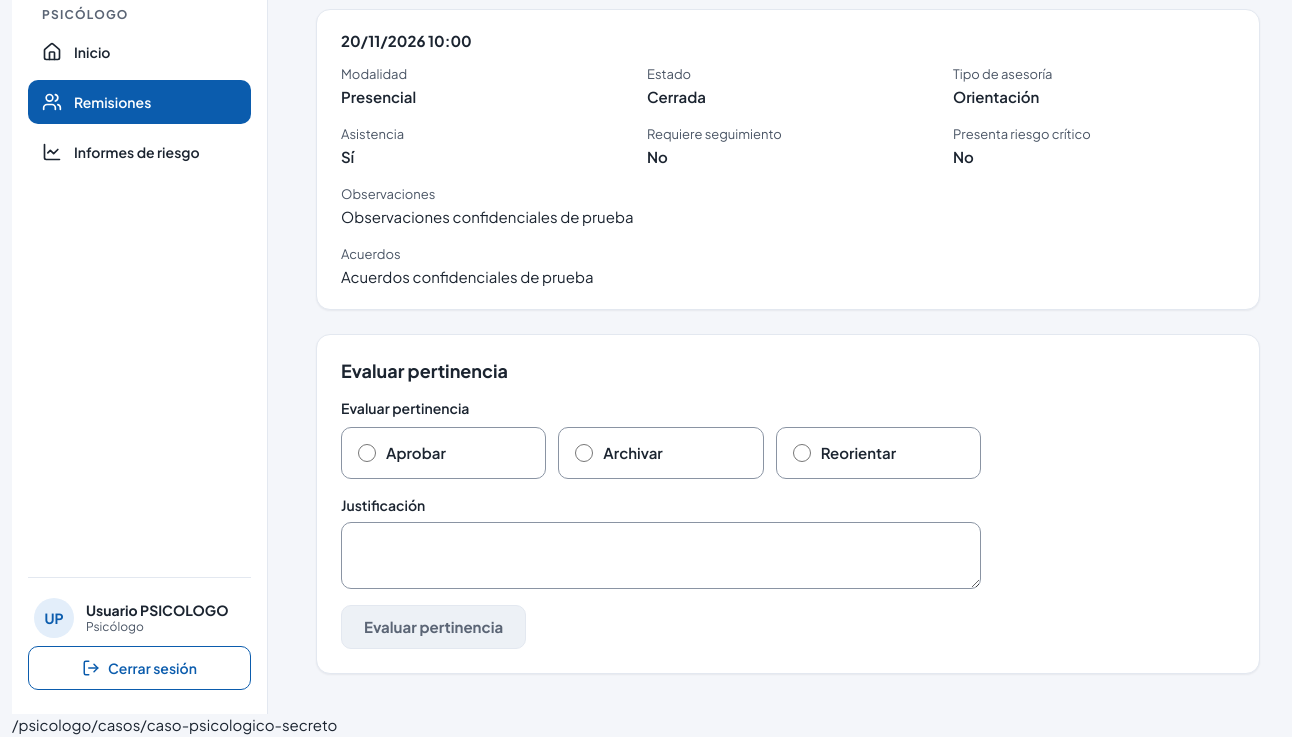
Test: Evaluación de pertinencia (CUD07) › no elige una decisión por defecto y valida la justificación antes de enviar
The width and height of the screenshot is (1292, 737).
(page scrolled)
expect the button "Evaluar pertinencia" is disabled: met, box [341, 605, 526, 649]
Click the radio button labelled "Archivar".
click(584, 453)  # box [575, 444, 593, 462]
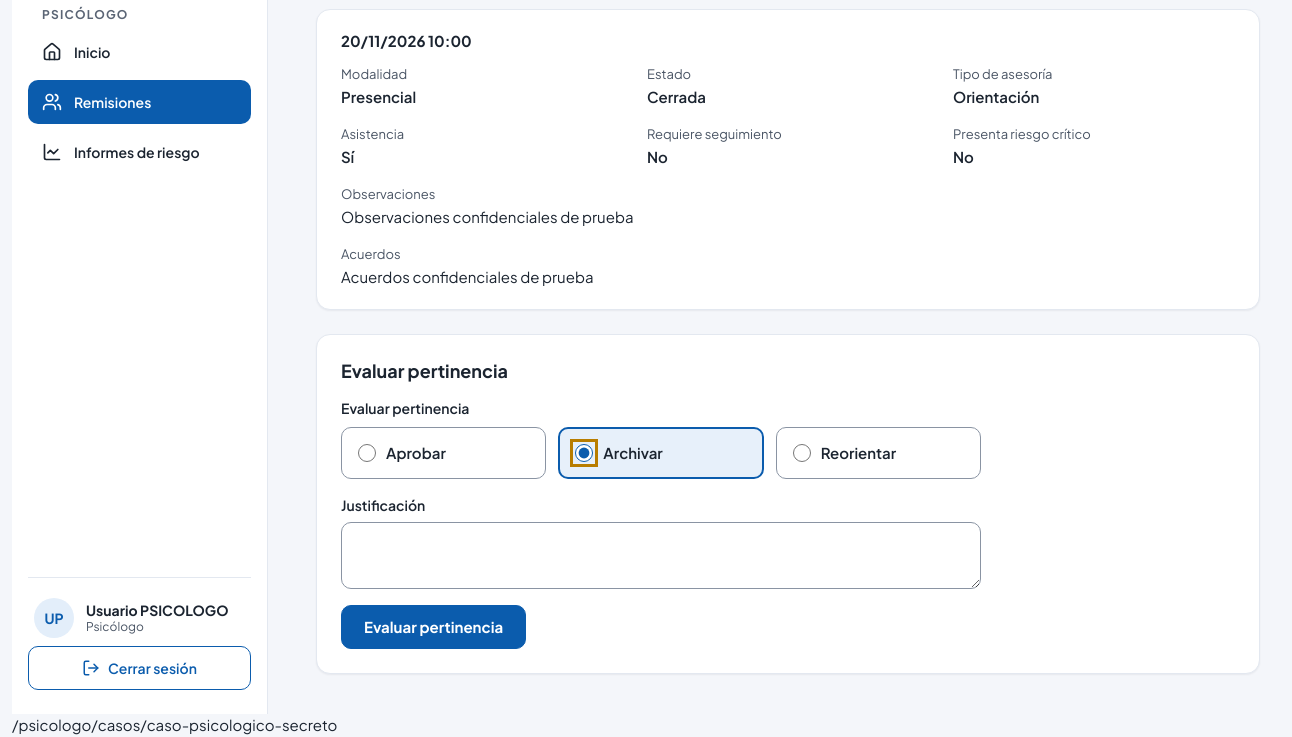
Click the button "Evaluar pertinencia".
click(434, 627)  # box [341, 605, 526, 649]
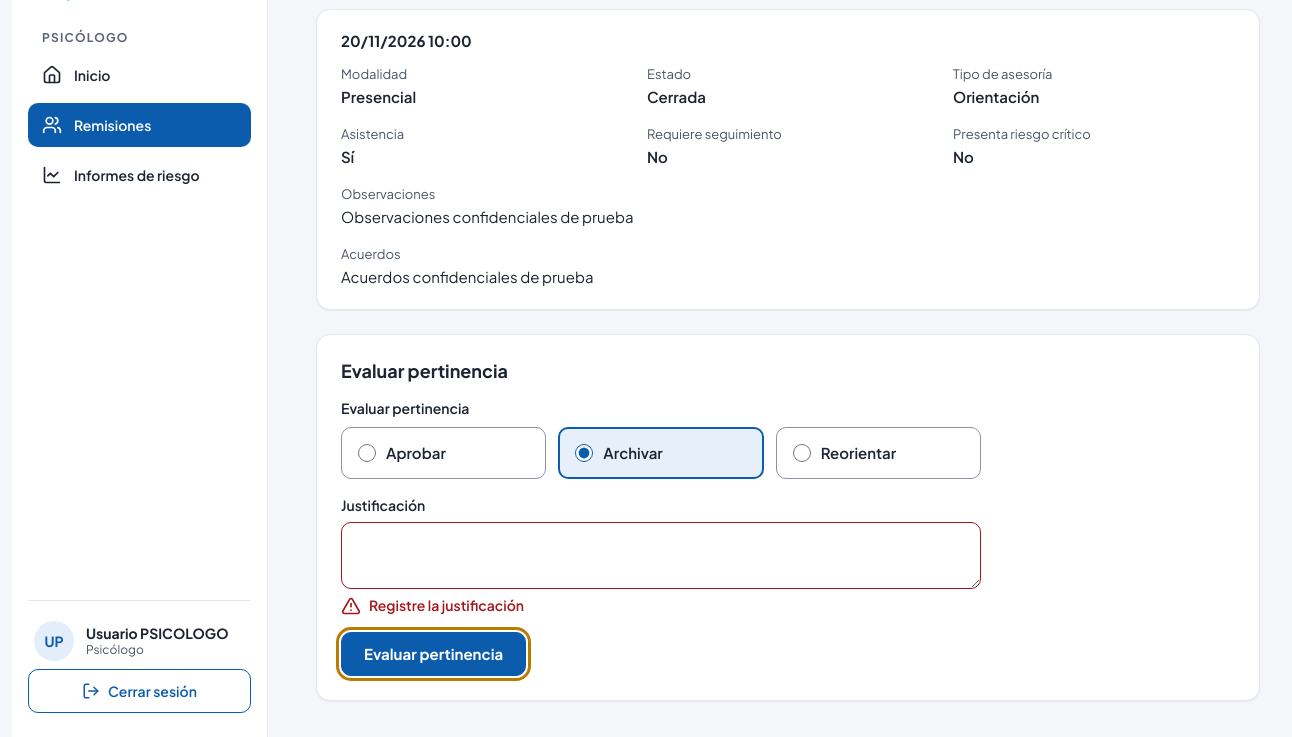
expect the text "Registre la justificación" is shown: met, box [369, 595, 524, 616]
